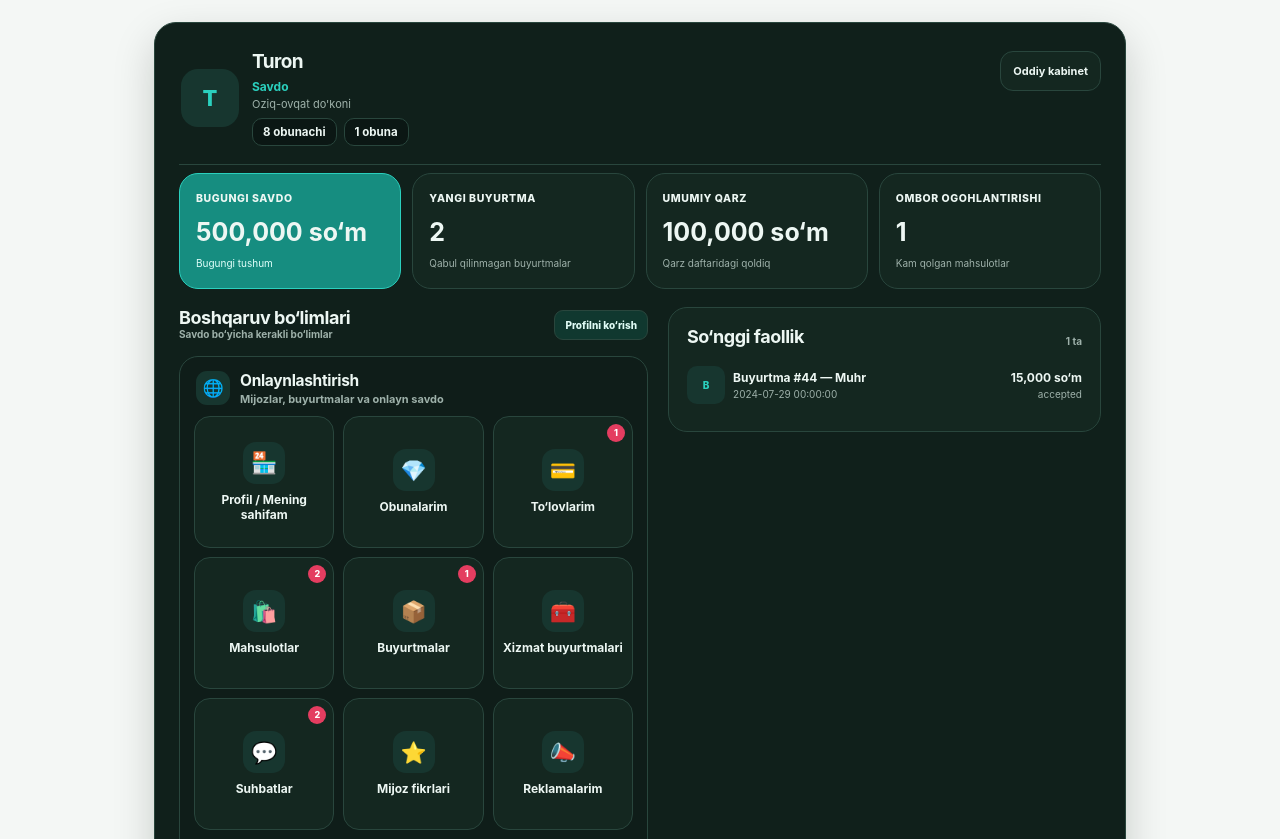
Scenario: profile cabinets › opens the v1656 editor and uploads the business logo
This screenshot has width=1280, height=839.
Click the button "🏪 Profil / Mening sahifam" at {"x": 264, "y": 482}, box [194,416,334,548]
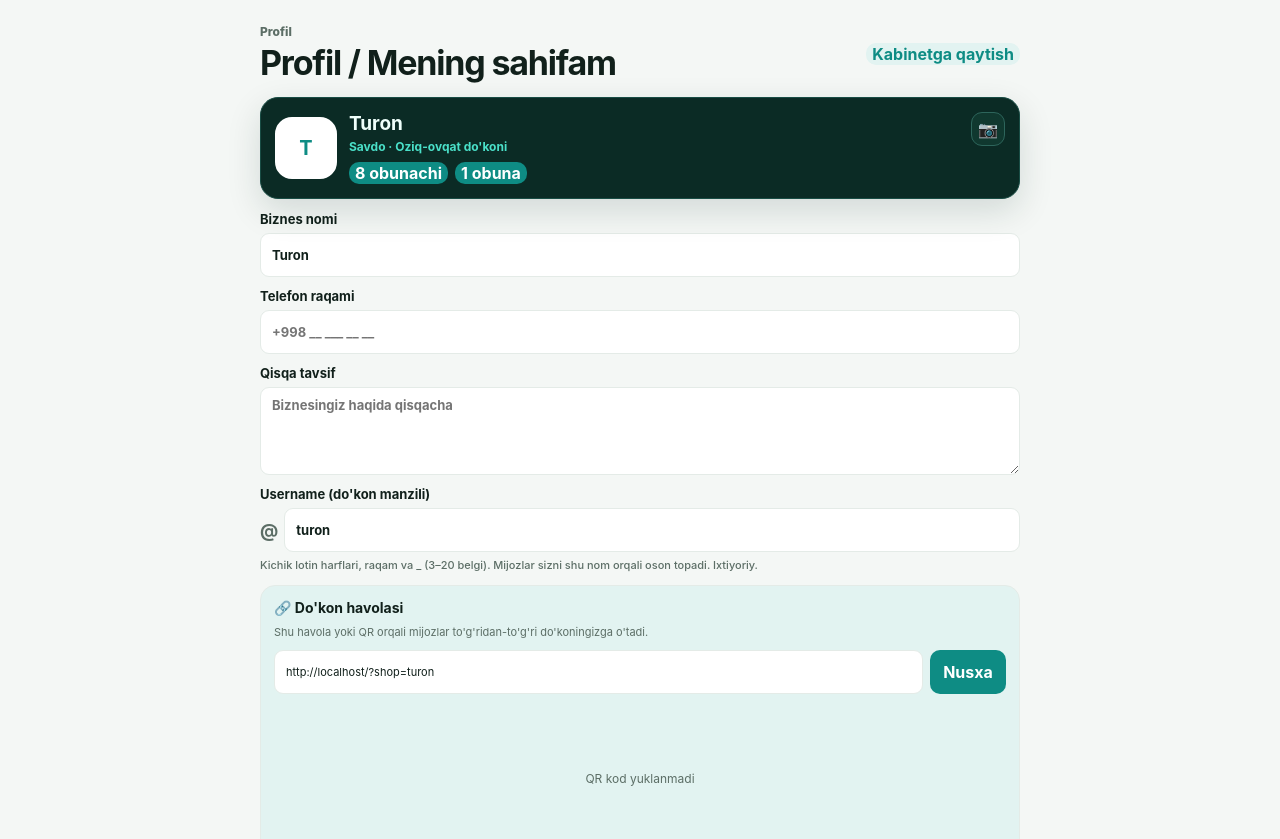
Now the field labelled "Biznes nomi" is shown, box [260,233,1020,277]
